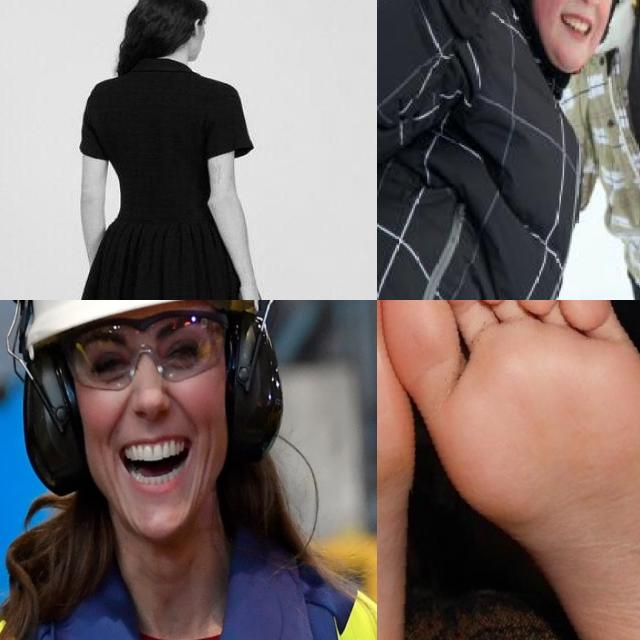Barefoots: (385, 300, 640, 640)
Ear-protection: (7, 300, 288, 565)
No_Ear-Protection: (184, 11, 208, 48)
face_nomask: (551, 0, 614, 40)
hand_noglove: (223, 263, 274, 300)
person: (377, 0, 621, 300), (71, 0, 274, 300)
